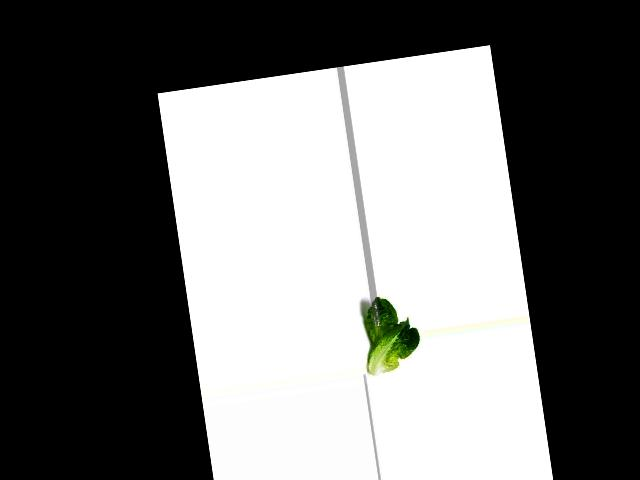lettuce: (360, 289, 424, 377)
